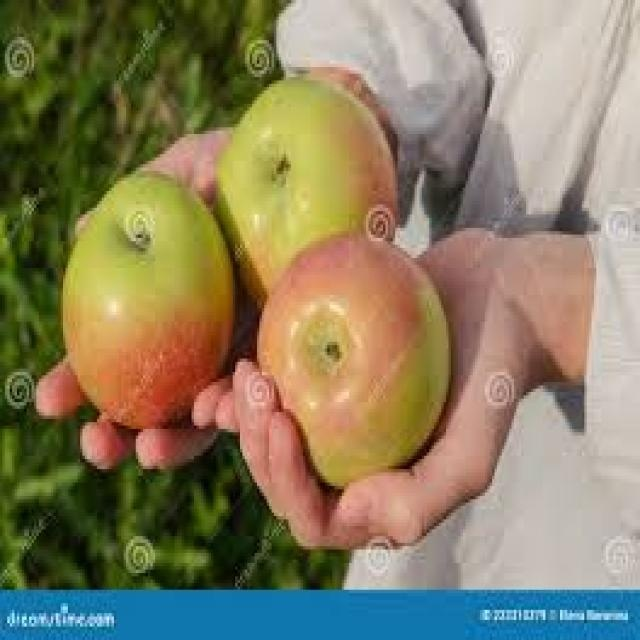agrume: (208, 190, 483, 524), (44, 156, 252, 444), (201, 70, 412, 338)
